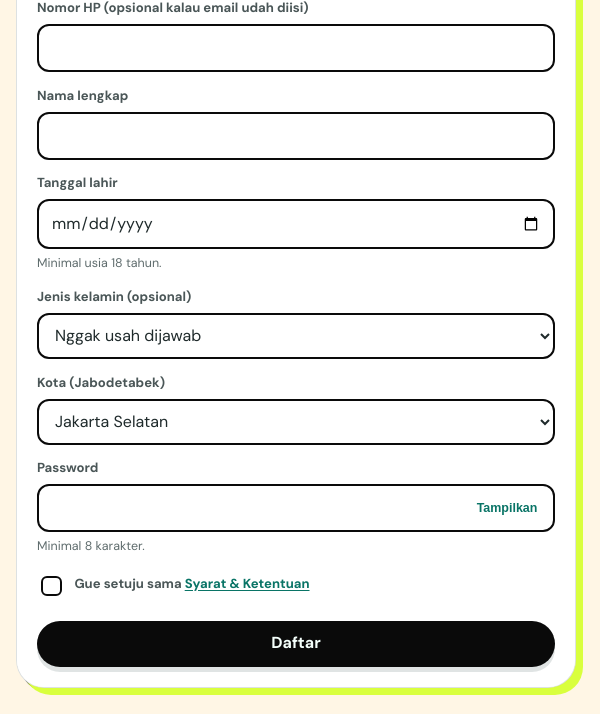
Test: RegisterPage validation › requires an email
(page scrolled)
Click the button "Daftar": (296, 644) [37, 621, 555, 666]
(page scrolled)
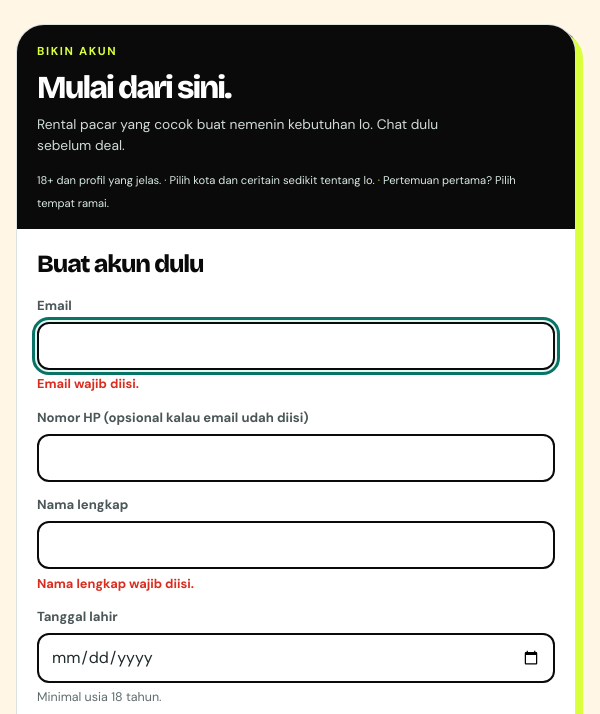
expect the text "Email wajib diisi." is shown: met, box [37, 375, 139, 392]
